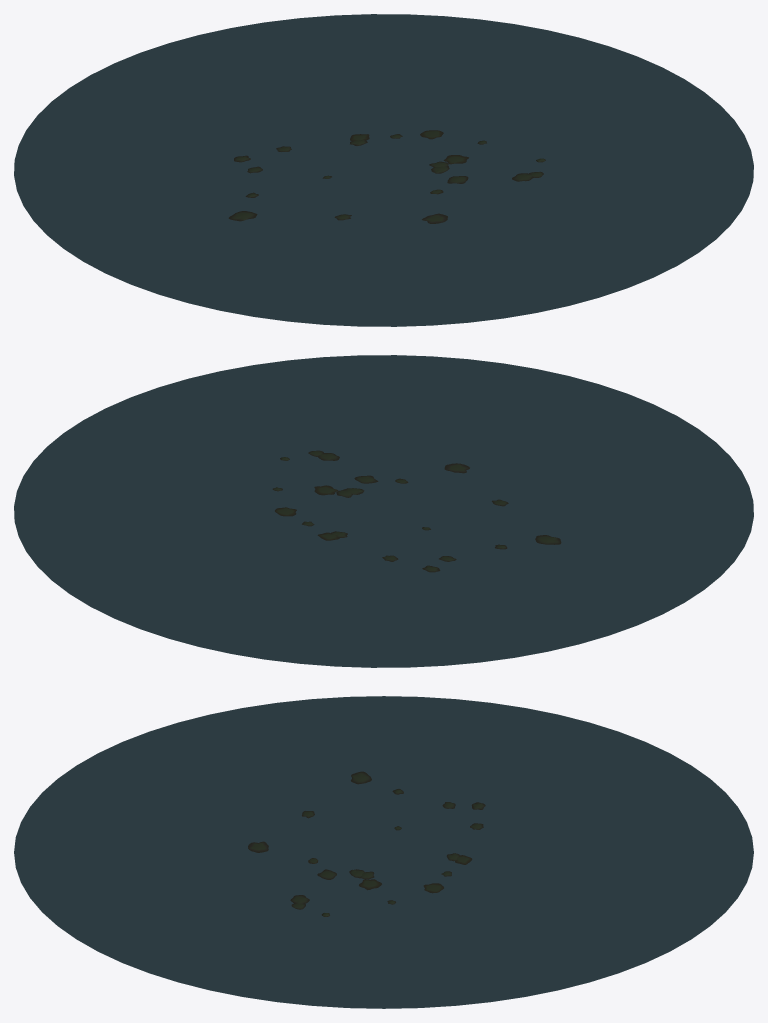
Rendered from backdrop_islands_mires_summer.glb.
The picture shows the model from 3 angles, top to bottom: view 1: azimuth 30°, elevation 25°; view 2: azimuth 150°, elevation 25°; view 3: azimuth 270°, elevation 25°; orthographic projection.
Parts seen in each view (by area): view 1: water_N, water_S, water_W, water_E, islands; view 2: water_N, water_S, water_W, water_E, islands; view 3: water_N, water_S, water_W, water_E, islands.
Boxes of the visible parts, x1,y1,x2,y2 form: water_N: [26, 14, 479, 170]; water_S: [288, 170, 741, 326]; water_W: [14, 130, 383, 321]; water_E: [384, 19, 753, 210]; islands: [228, 130, 545, 223]; water_N: [26, 511, 479, 667]; water_S: [288, 355, 741, 511]; water_W: [384, 471, 753, 662]; water_E: [14, 360, 383, 551]; islands: [272, 450, 561, 572]; water_N: [384, 742, 753, 962]; water_S: [14, 742, 383, 962]; water_W: [123, 696, 644, 852]; water_E: [123, 852, 644, 1008]; islands: [248, 771, 485, 916].
Size of the model in its own units: 6000 by 10.39 by 6000.
